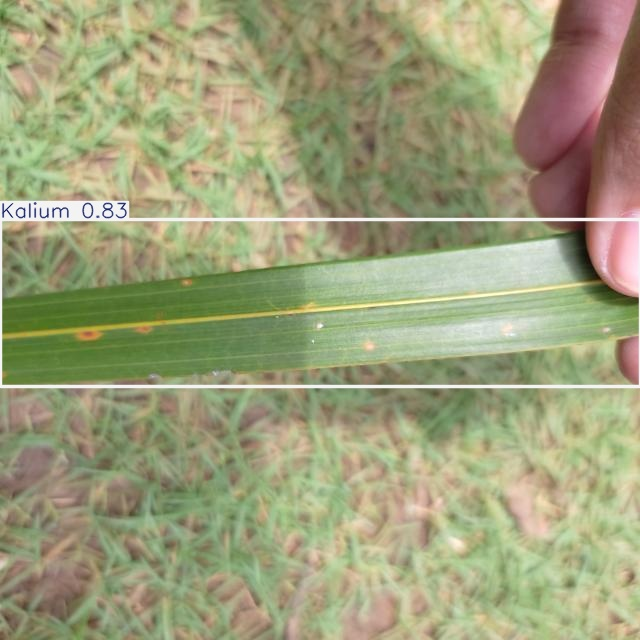Kalium: (0, 219, 640, 386)
